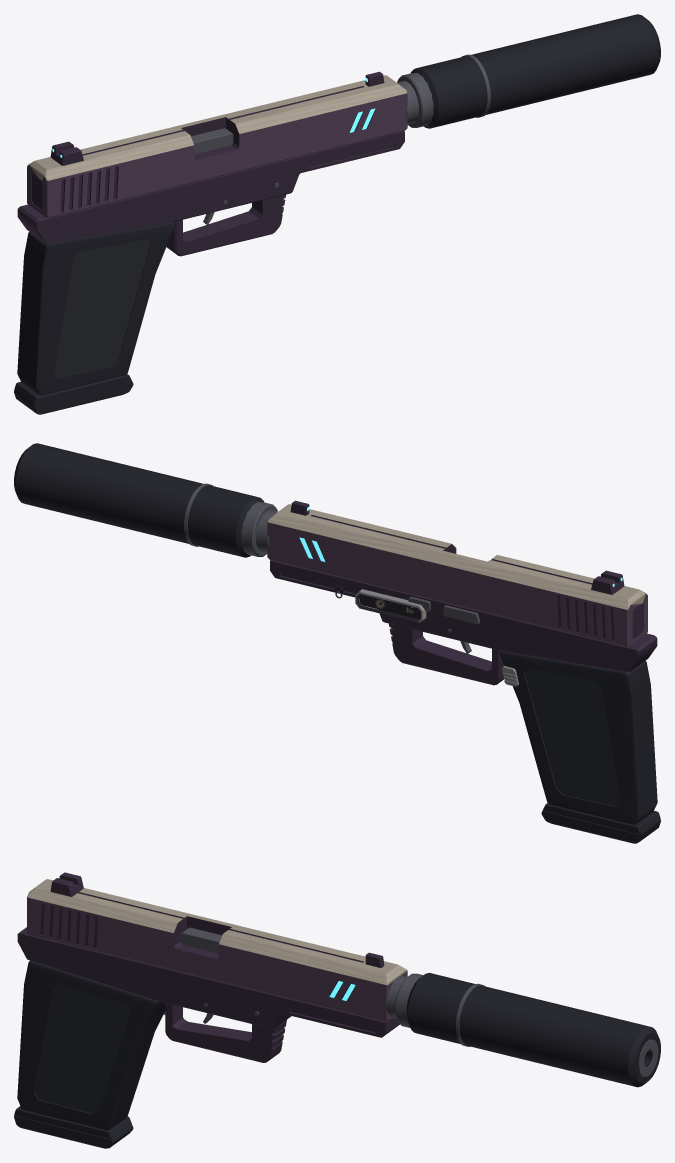
File: Ghost_Playback_v01.fbx
3 views of the same model, one above another, from view 1: azimuth 30°, elevation 25°; view 2: azimuth 150°, elevation 25°; view 3: azimuth 330°, elevation 25° (orthographic).
Visible parts, largest first — view 1: Ghost_Slide, Ghost_Grip, Ghost_Suppressor, Ghost_Frame, Ghost_Mag; view 2: Ghost_Slide, Ghost_Grip, Ghost_Suppressor, Ghost_Frame, Ghost_Mag, Playback_SmokedWindow, Playback_CassetteHousing, Playback_CassetteBed; view 3: Ghost_Slide, Ghost_Grip, Ghost_Suppressor, Ghost_Frame, Ghost_Mag.
Part boxes in pixels (bbox=[...]): Ghost_Slide: bbox=[27, 71, 407, 218]; Ghost_Grip: bbox=[17, 221, 174, 395]; Ghost_Suppressor: bbox=[191, 14, 660, 154]; Ghost_Frame: bbox=[17, 131, 404, 256]; Ghost_Mag: bbox=[14, 374, 133, 414]; Ghost_Slide: bbox=[267, 500, 647, 647]; Ghost_Grip: bbox=[500, 650, 657, 824]; Ghost_Suppressor: bbox=[14, 443, 277, 557]; Ghost_Frame: bbox=[270, 560, 657, 685]; Ghost_Mag: bbox=[541, 803, 660, 843]; Playback_SmokedWindow: bbox=[357, 594, 420, 620]; Playback_CassetteHousing: bbox=[355, 589, 426, 622]; Playback_CassetteBed: bbox=[359, 594, 420, 619]; Ghost_Slide: bbox=[27, 872, 407, 1021]; Ghost_Grip: bbox=[17, 960, 165, 1129]; Ghost_Suppressor: bbox=[180, 927, 660, 1087]; Ghost_Frame: bbox=[17, 927, 399, 1062]; Ghost_Mag: bbox=[14, 1106, 133, 1148].
Bounding box in the file's own units: 232 × 89.19 × 20.42.
14 materials, 13 textured.
